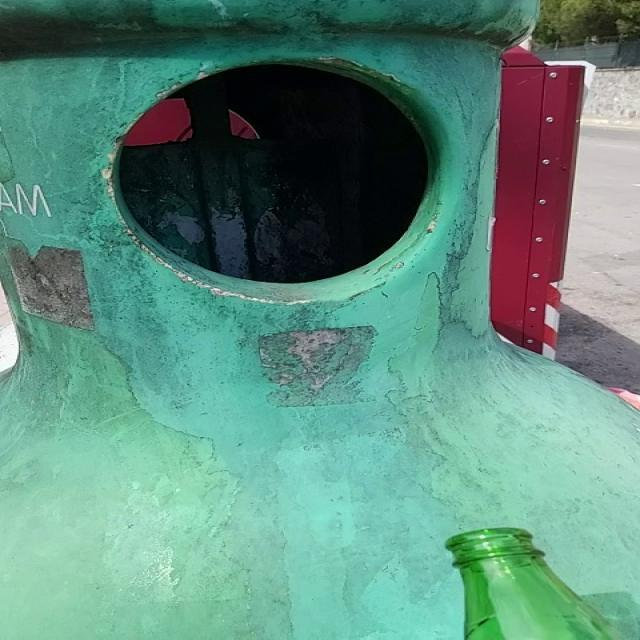Glass: (447, 530, 615, 640)
